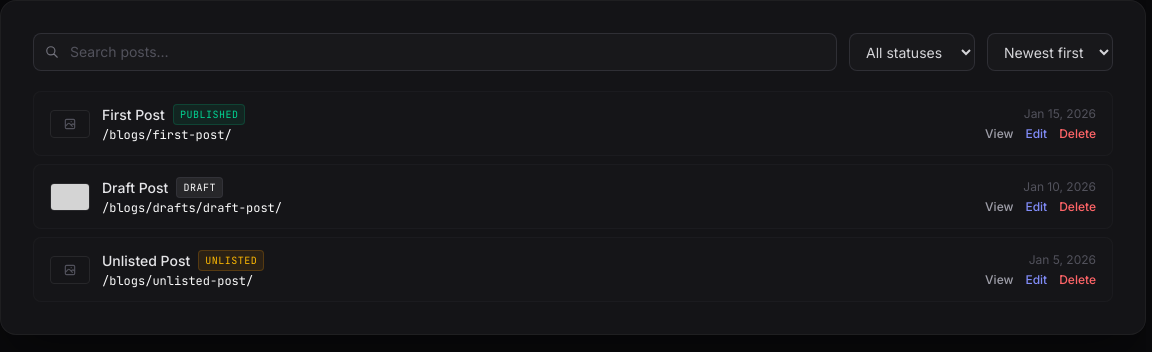
it: EntryList › search filters items by title
Type "Draft" into the field with placeholder "Search posts…" at x=435, y=52, box [33,33,837,71]
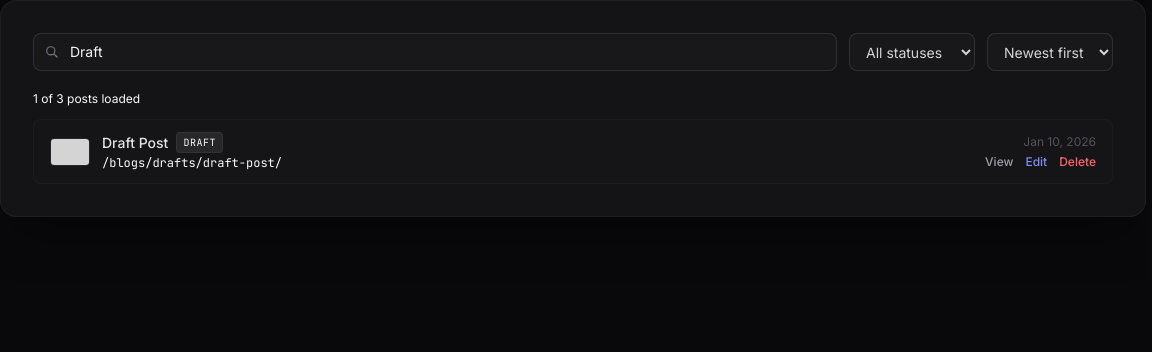
Expected: the text "Draft Post" is shown, [102,132,168,152]
Expected: the text "First Post" is gone
